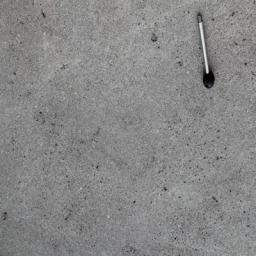FOD: (191, 9, 222, 92)
